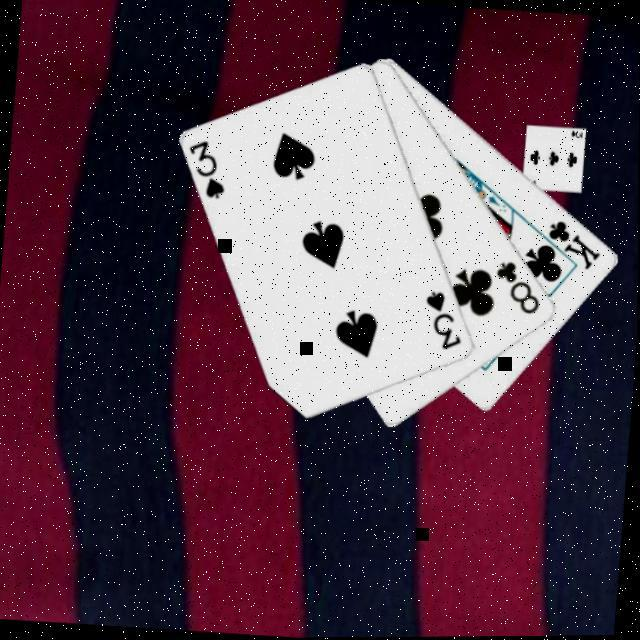3S: (421, 286, 470, 353), (185, 134, 234, 201)
8C: (492, 255, 548, 317)
KC: (532, 213, 608, 272)
